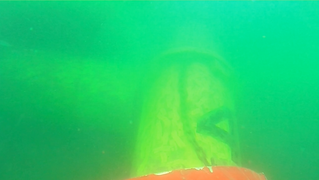4: (196, 107, 241, 167)
leak: (123, 165, 268, 180)
pipe: (131, 44, 240, 178), (1, 44, 147, 136)
